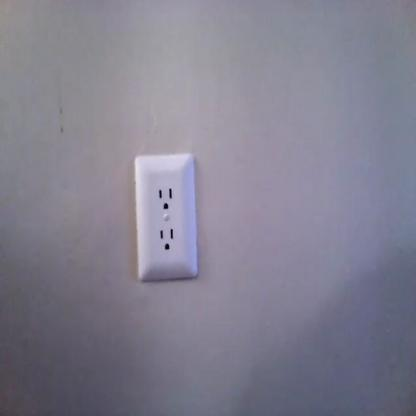OUTLET: (134, 155, 199, 281)
